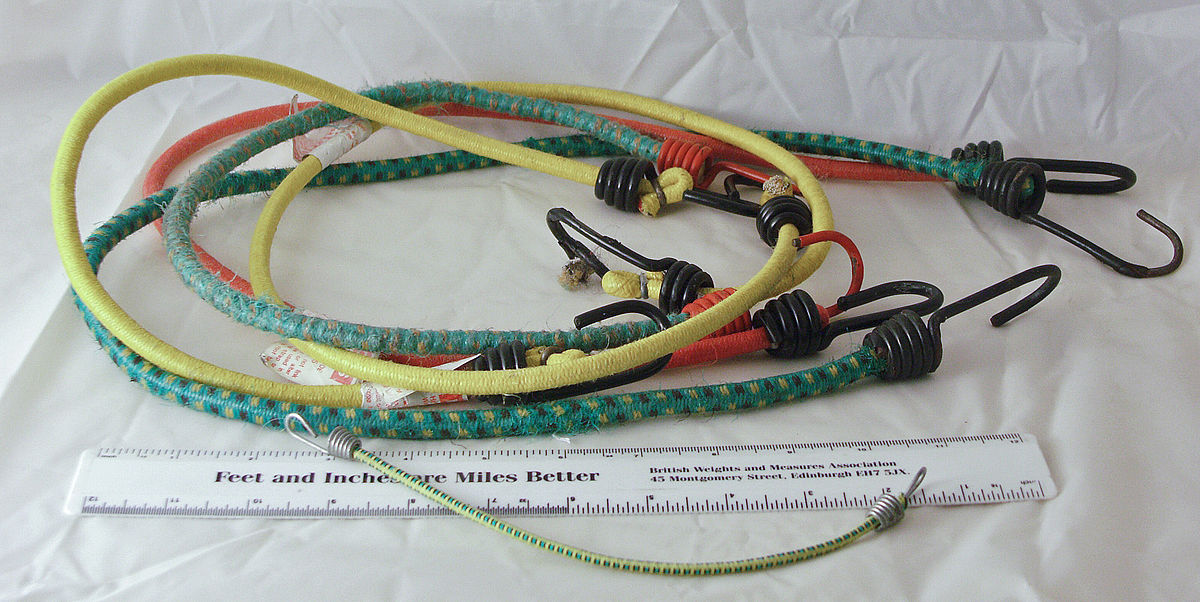Nonrec_Tangler: (43, 18, 1171, 515)
